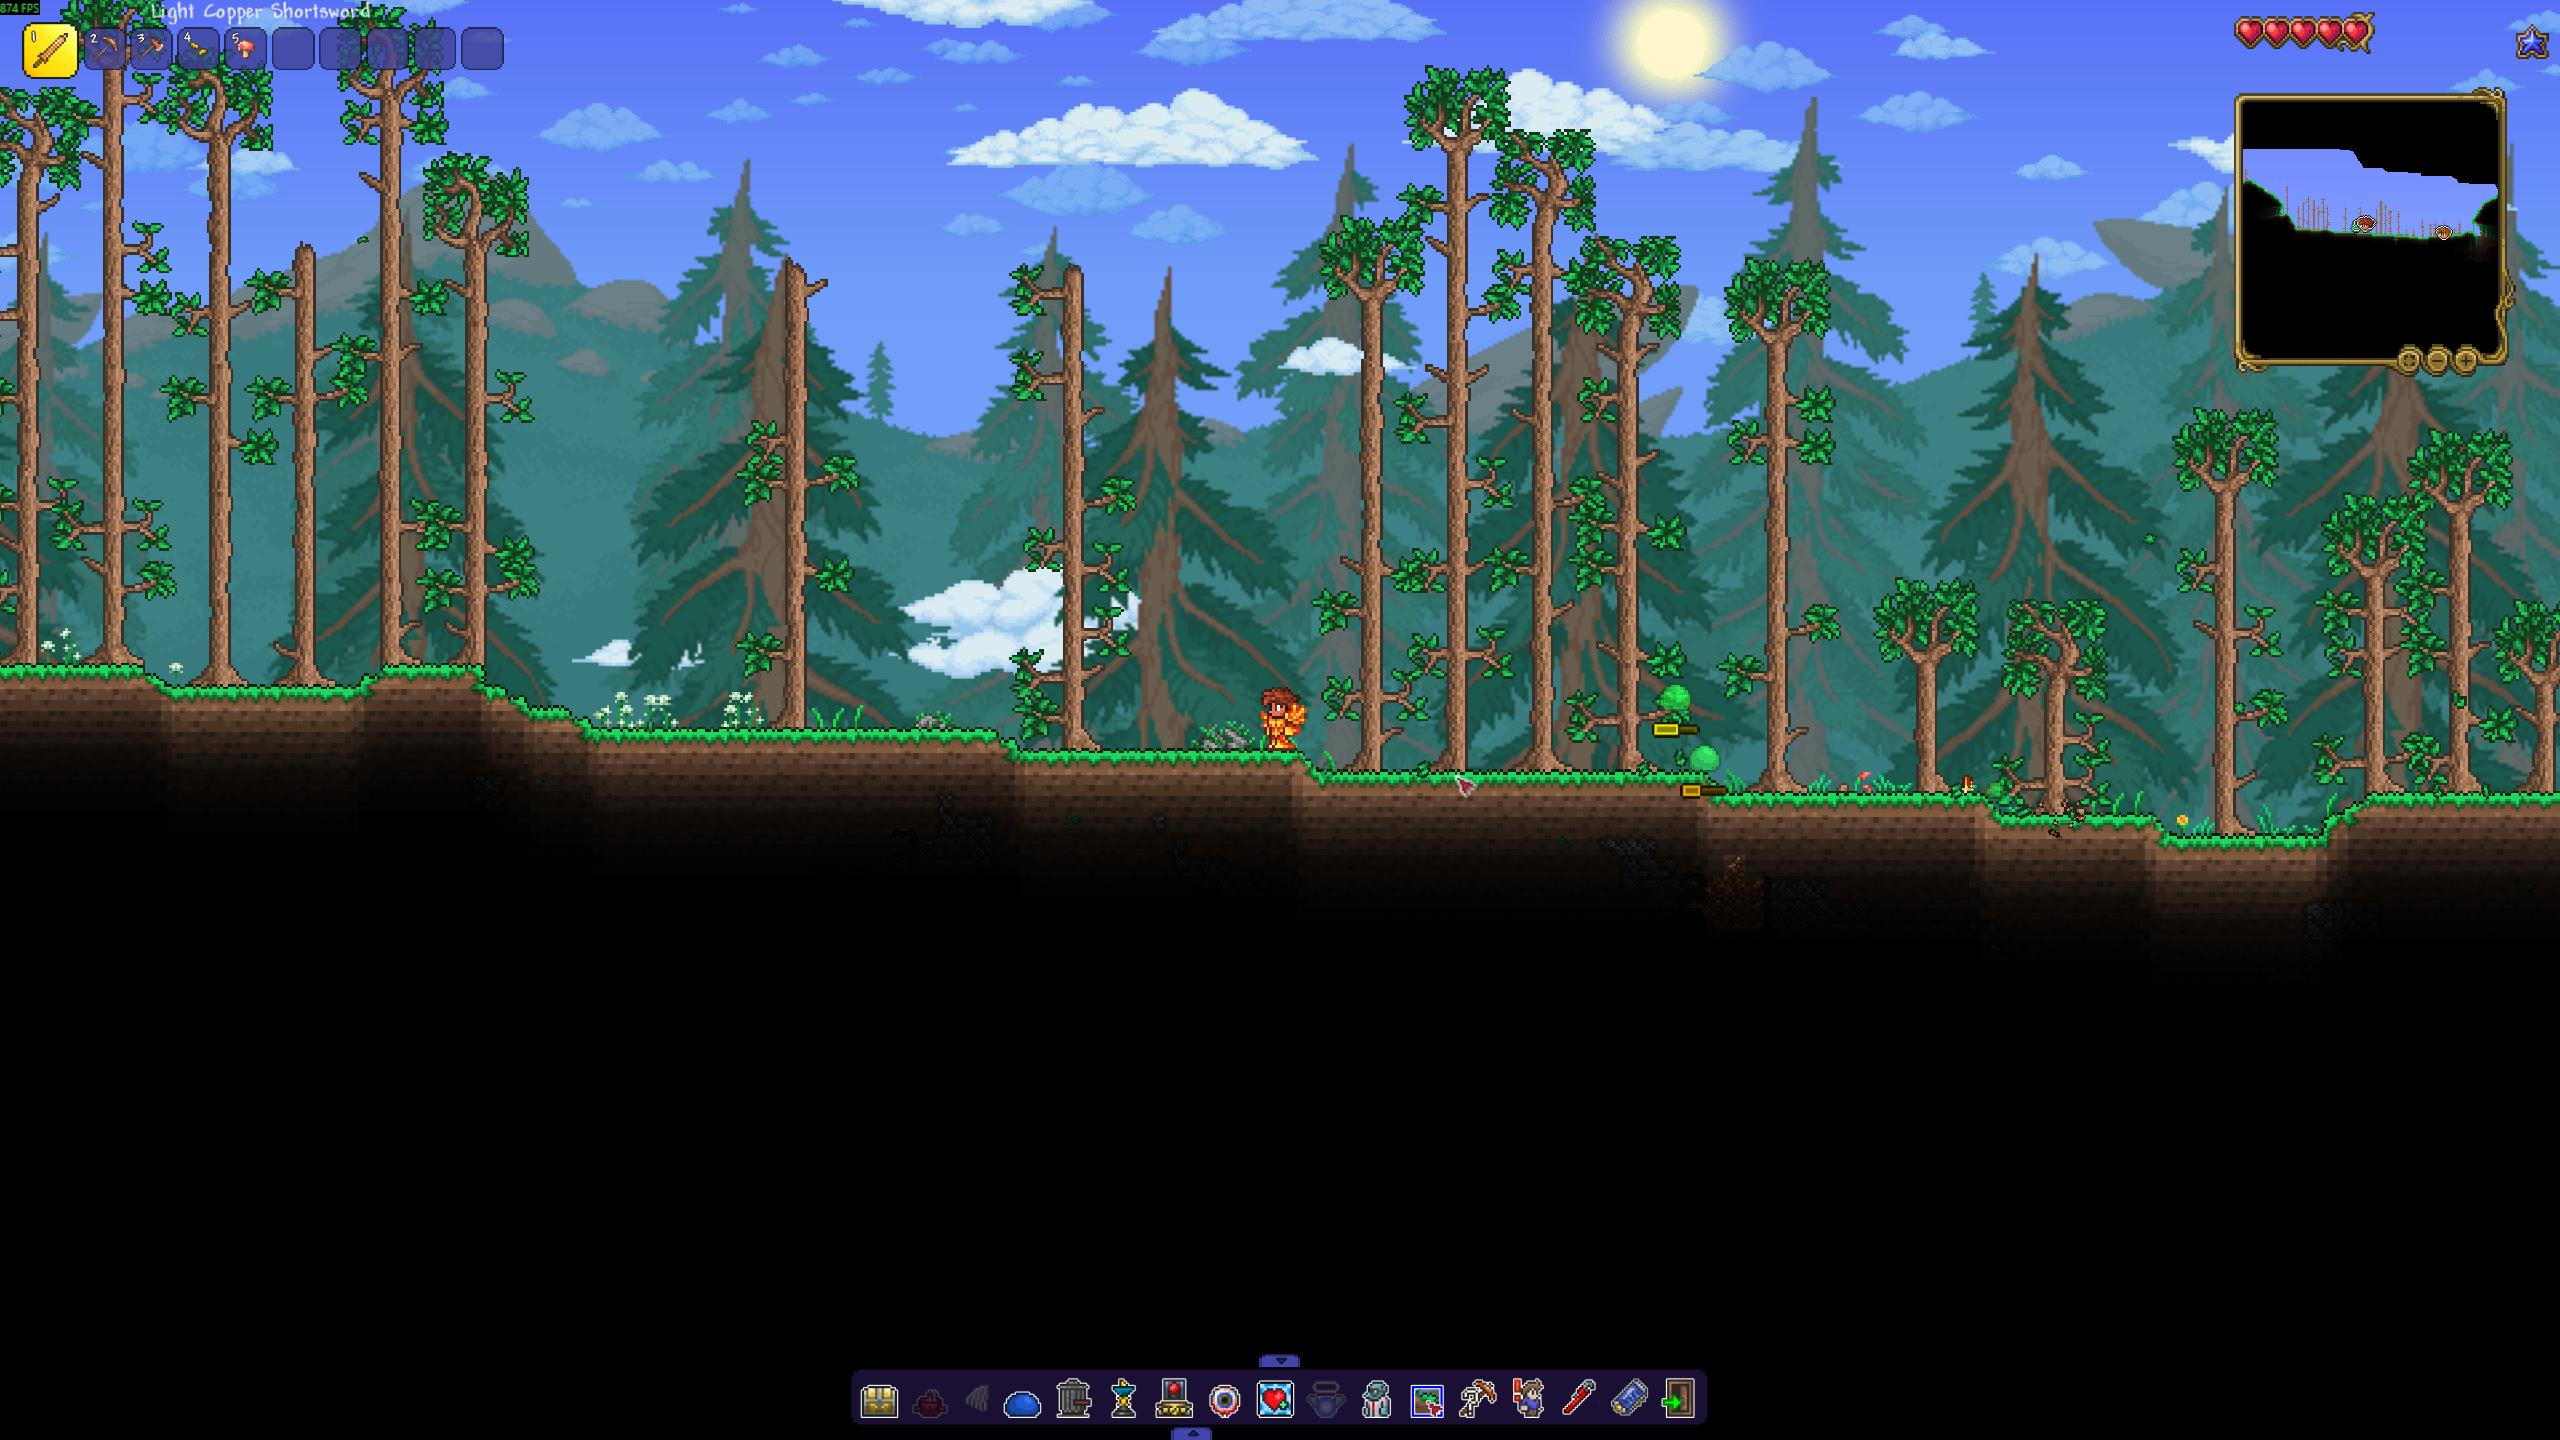Green Slime: (1684, 740, 1721, 770), (1656, 682, 1693, 710)
